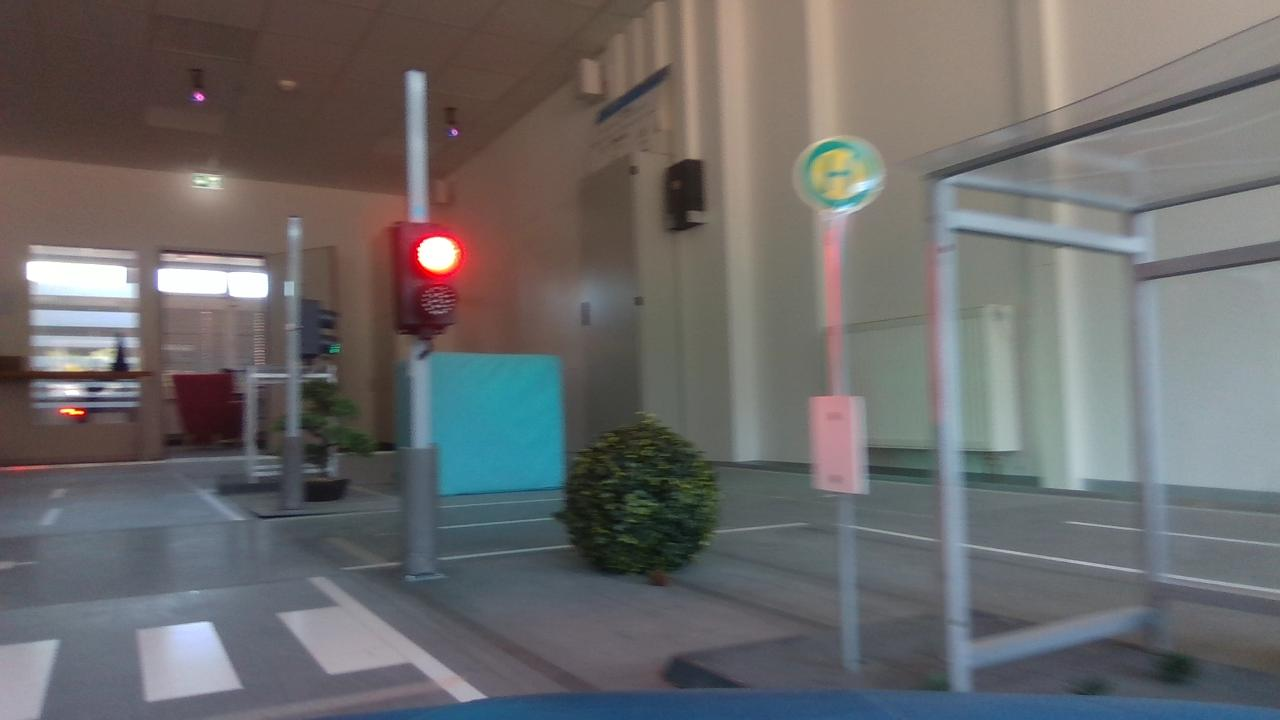traffic_light_red: (364, 209, 475, 347)
